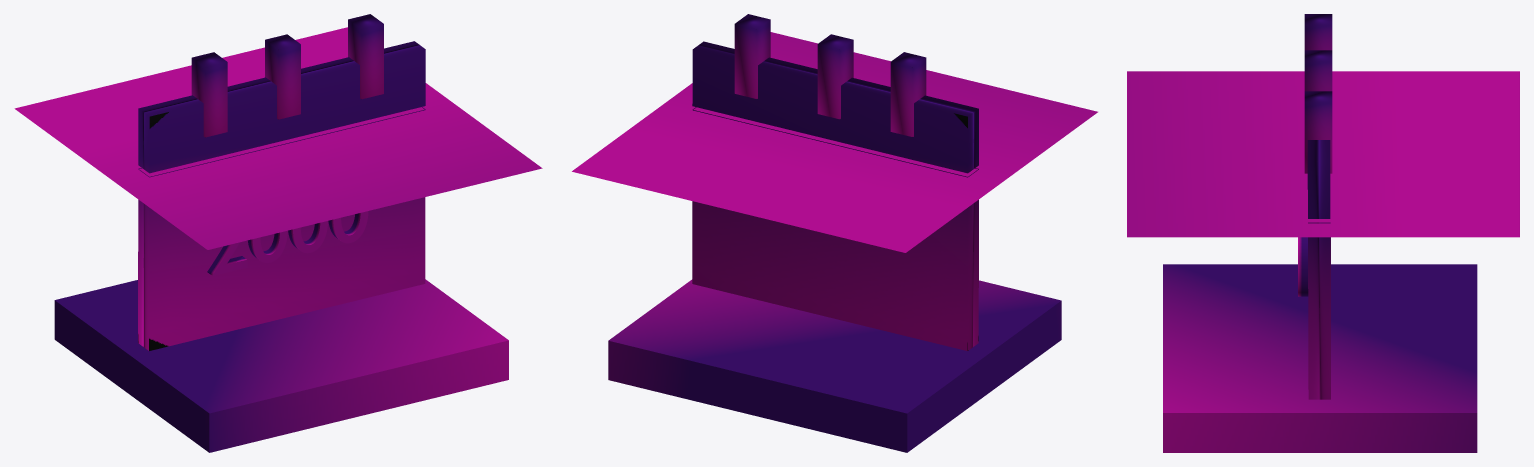
The model's file is 1_YEAR_SELECTOR.glb.
The picture shows the model from 3 angles, left to right: view 1: azimuth 30°, elevation 25°; view 2: azimuth 150°, elevation 25°; view 3: azimuth 270°, elevation 25°; orthographic projection.
Parts seen in each view (by area): view 1: Cubo.001, Plano.001, Cubo.003, GN Instance, Cubo, Cubo.002, Cubo.004; view 2: Cubo.001, Cubo.003, Plano.001, Cubo.002, Cubo.004, Cubo; view 3: Plano.001, Cubo.001, Cubo.003, Cubo.004, Cubo.002, Cubo, GN Instance.
Part boxes in pixels (left/top/right/bottom): Cubo.001: left=54, top=279, right=508, bottom=452; Plano.001: left=14, top=27, right=542, bottom=249; Cubo.003: left=138, top=41, right=425, bottom=350; GN Instance: left=207, top=211, right=368, bottom=275; Cubo: left=191, top=52, right=227, bottom=137; Cubo.002: left=265, top=34, right=300, bottom=119; Cubo.004: left=348, top=14, right=383, bottom=99; Cubo.001: left=608, top=279, right=1061, bottom=452; Cubo.003: left=692, top=41, right=978, bottom=350; Plano.001: left=572, top=32, right=1097, bottom=252; Cubo.002: left=817, top=34, right=853, bottom=119; Cubo.004: left=734, top=14, right=770, bottom=98; Cubo: left=890, top=52, right=926, bottom=136; Plano.001: left=1127, top=71, right=1519, bottom=237; Cubo.001: left=1163, top=264, right=1477, bottom=452; Cubo.003: left=1307, top=140, right=1330, bottom=399; Cubo.004: left=1304, top=91, right=1332, bottom=173; Cubo.002: left=1304, top=50, right=1332, bottom=91; Cubo: left=1304, top=14, right=1332, bottom=50; GN Instance: left=1298, top=237, right=1308, bottom=296.
Size of the model in its own units: 2 by 1.82 by 2.
5 materials, 5 textured.
